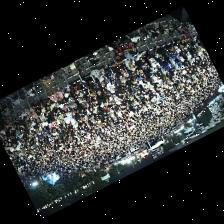person: (76, 65, 95, 86), (145, 51, 160, 69), (124, 64, 141, 79), (142, 62, 156, 79), (111, 61, 125, 74), (124, 52, 134, 69), (149, 47, 161, 61), (115, 66, 126, 81), (65, 111, 74, 127), (92, 68, 104, 80), (156, 46, 169, 57), (50, 91, 63, 102), (32, 100, 42, 114), (81, 83, 90, 98), (134, 52, 144, 65), (105, 79, 115, 92), (115, 84, 125, 97), (119, 84, 130, 95), (165, 43, 176, 54), (70, 81, 80, 93), (39, 111, 48, 124), (13, 116, 22, 129), (162, 62, 173, 72), (125, 57, 134, 69), (169, 52, 177, 65), (95, 77, 105, 87), (49, 109, 59, 119), (104, 64, 111, 78), (92, 83, 100, 95), (43, 98, 51, 110), (29, 111, 37, 123), (21, 109, 28, 122), (116, 77, 126, 86), (61, 86, 70, 96), (24, 106, 33, 116), (69, 91, 78, 100), (7, 119, 15, 129), (50, 101, 58, 111), (110, 68, 115, 83), (78, 90, 84, 102), (42, 106, 49, 116), (62, 96, 68, 107), (57, 113, 63, 124), (68, 97, 75, 106), (109, 40, 118, 47), (91, 89, 96, 101), (59, 103, 67, 110), (181, 38, 188, 46), (187, 36, 195, 43), (174, 39, 181, 47), (36, 116, 42, 125)
